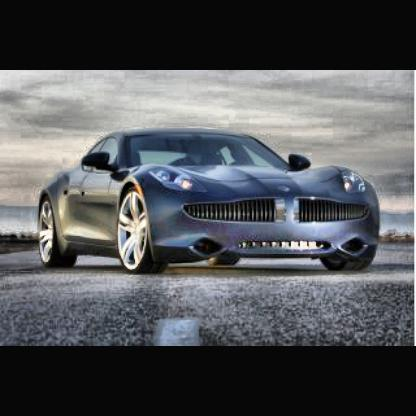Fisker Karma Sedan 2012: (42, 130, 383, 279)
